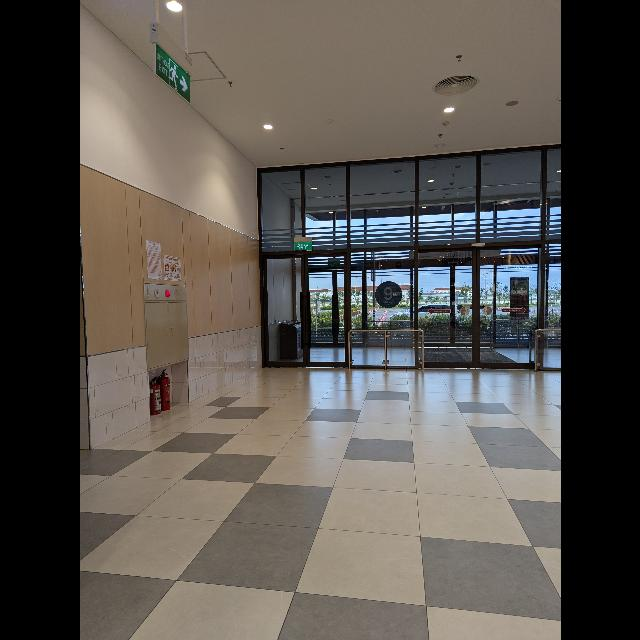exit: (156, 44, 190, 104), (296, 242, 312, 250), (326, 259, 339, 267)
